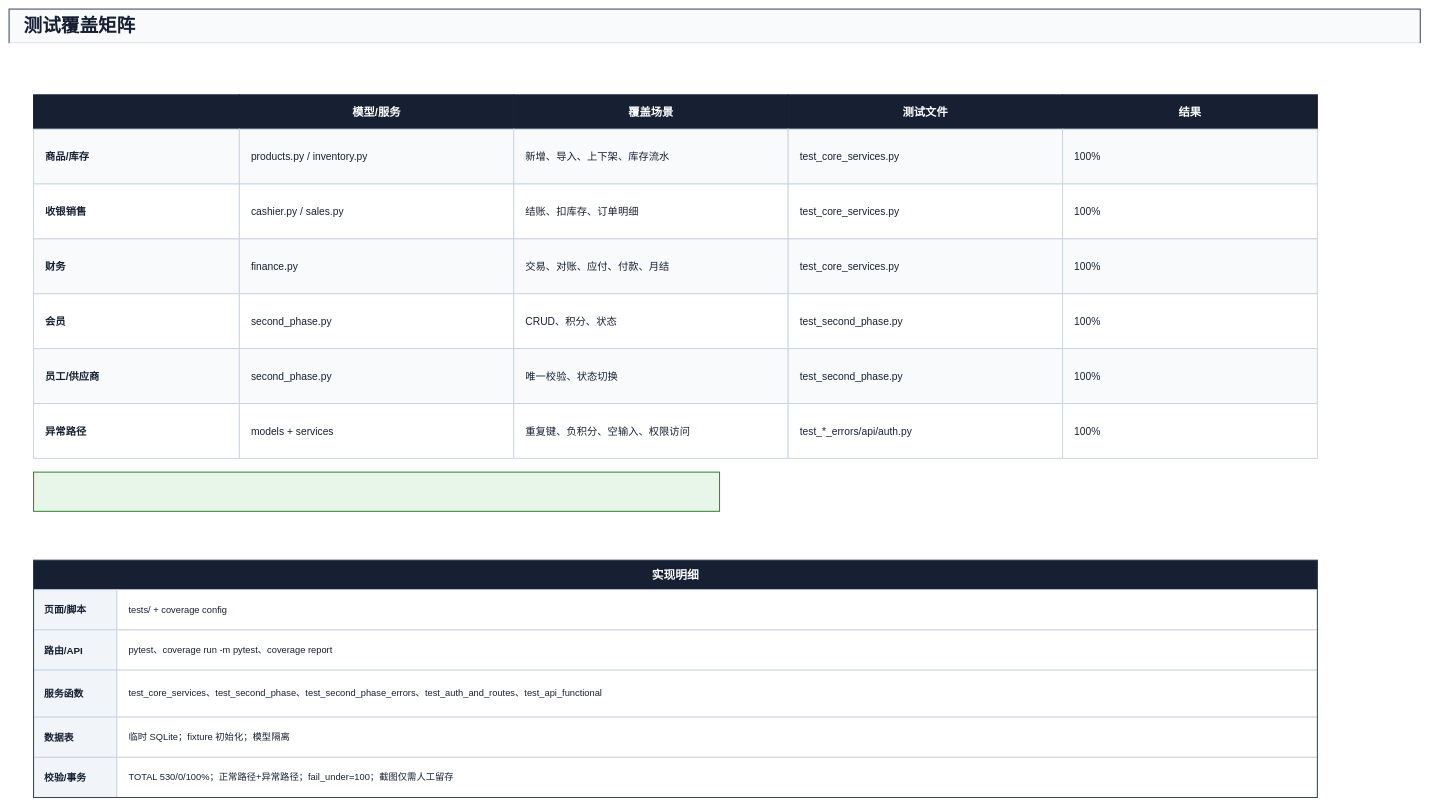
This 1429x806 diagram has some shape labels left out. The box of each missing label's shape, as (x1, y1, x2, y2) in pixels:
coverage report：TOTAL 530 / 0 / 100%，fail_under = 100: (33, 471, 720, 512)
模块: (33, 94, 240, 129)
矩阵图｜职责、实现入口、验收证据: (8, 43, 1421, 63)
